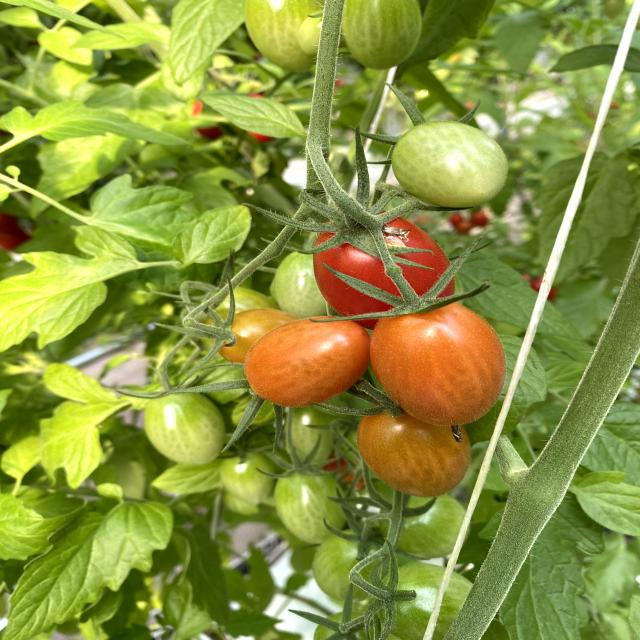ripe0: (393, 121, 510, 210)
ripe2: (371, 300, 506, 428), (245, 316, 367, 407), (315, 219, 391, 317)
